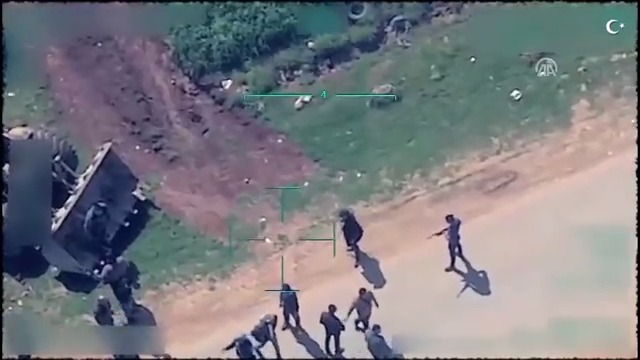arac: (1, 111, 150, 273)
insan: (97, 244, 145, 311), (427, 207, 468, 275), (276, 278, 320, 328), (339, 208, 371, 270), (251, 307, 287, 360), (351, 282, 385, 332), (320, 303, 348, 360), (364, 323, 401, 360)
